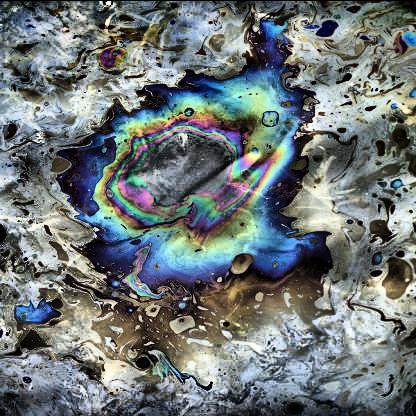rainbow: (57, 20, 330, 300)
